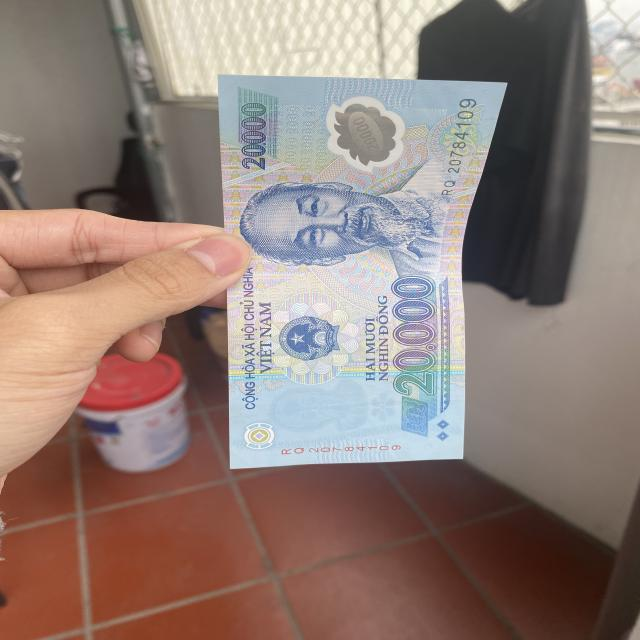20 000 VND: (216, 72, 509, 470)
